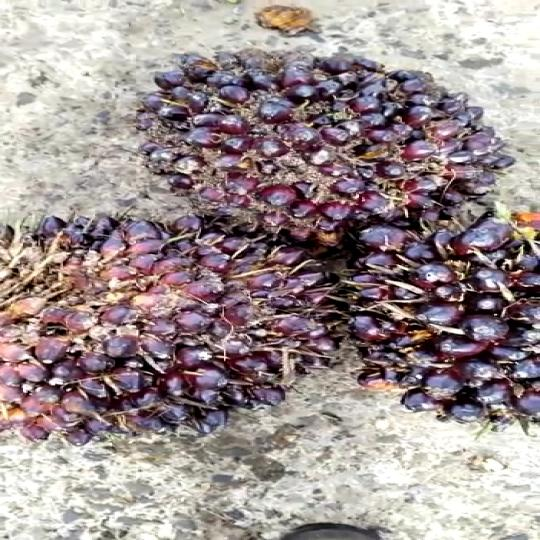kurang masak: (0, 212, 365, 447), (133, 41, 540, 247), (319, 199, 540, 442)
